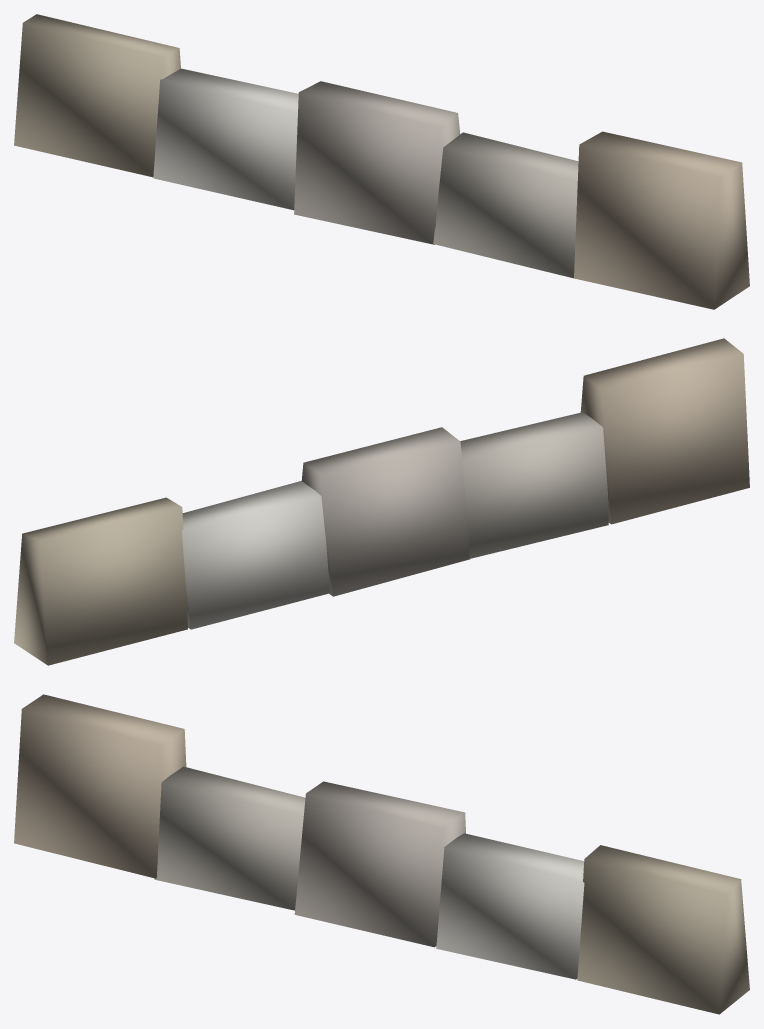
File: farm_10_17_far.glb
The picture shows the model from 3 angles, top to bottom: view 1: azimuth 90°, elevation 25°; view 2: azimuth 150°, elevation 25°; view 3: azimuth 270°, elevation 25°; orthographic projection.
Visible parts, largest first — view 1: geometry_0; view 2: geometry_0; view 3: geometry_0.
Part boxes in pixels (x1,y1,x2,y2): geometry_0: (14,14,749,309); geometry_0: (14,338,749,665); geometry_0: (14,694,749,1014).
Bounding box in the file's own units: 4.46 × 1.44 × 7.23.
